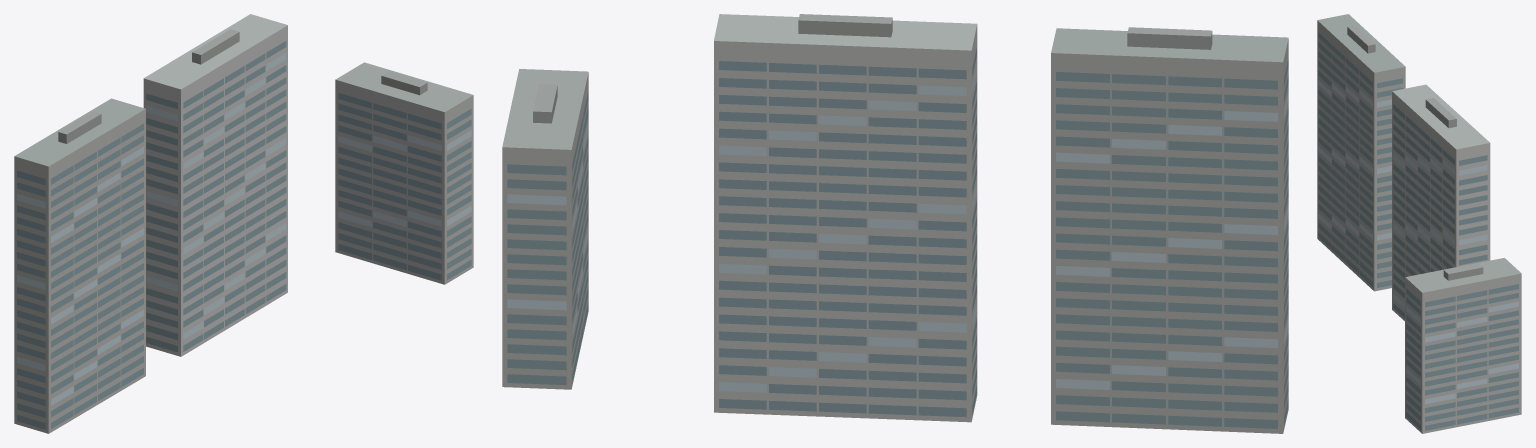
The model's file is apt-a13184804.glb.
The picture shows the model from 3 angles, left to right: view 1: azimuth 30°, elevation 25°; view 2: azimuth 150°, elevation 25°; view 3: azimuth 270°, elevation 25°; orthographic projection. The views are drawn at different scales.
Parts seen in each view (by area): view 1: apt-a13184804; view 2: apt-a13184804; view 3: apt-a13184804.
Boxes of the visible parts, x1,y1,x2,y2 form: apt-a13184804: (14, 14, 473, 433); apt-a13184804: (502, 14, 1288, 433); apt-a13184804: (1317, 14, 1521, 433).
Bounding box in the file's own units: 132 × 69 × 56.47.
